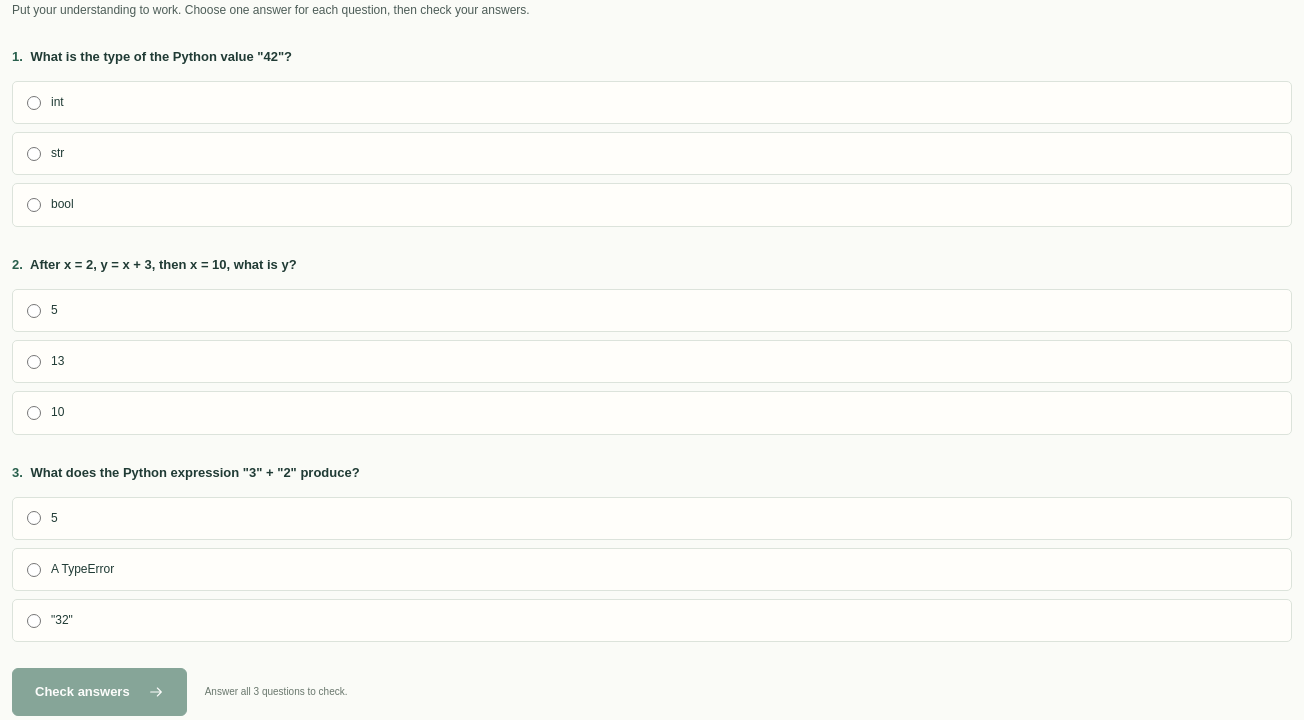
it: knowledge check › requires all answers and explains both correct and incorrect answers
This screenshot has width=1304, height=720.
Check: the button "Check answers" is disabled, box [12,668,187,716]
Click the radio button labelled "str". click: x=34, y=154
box: [27,147,41,161]
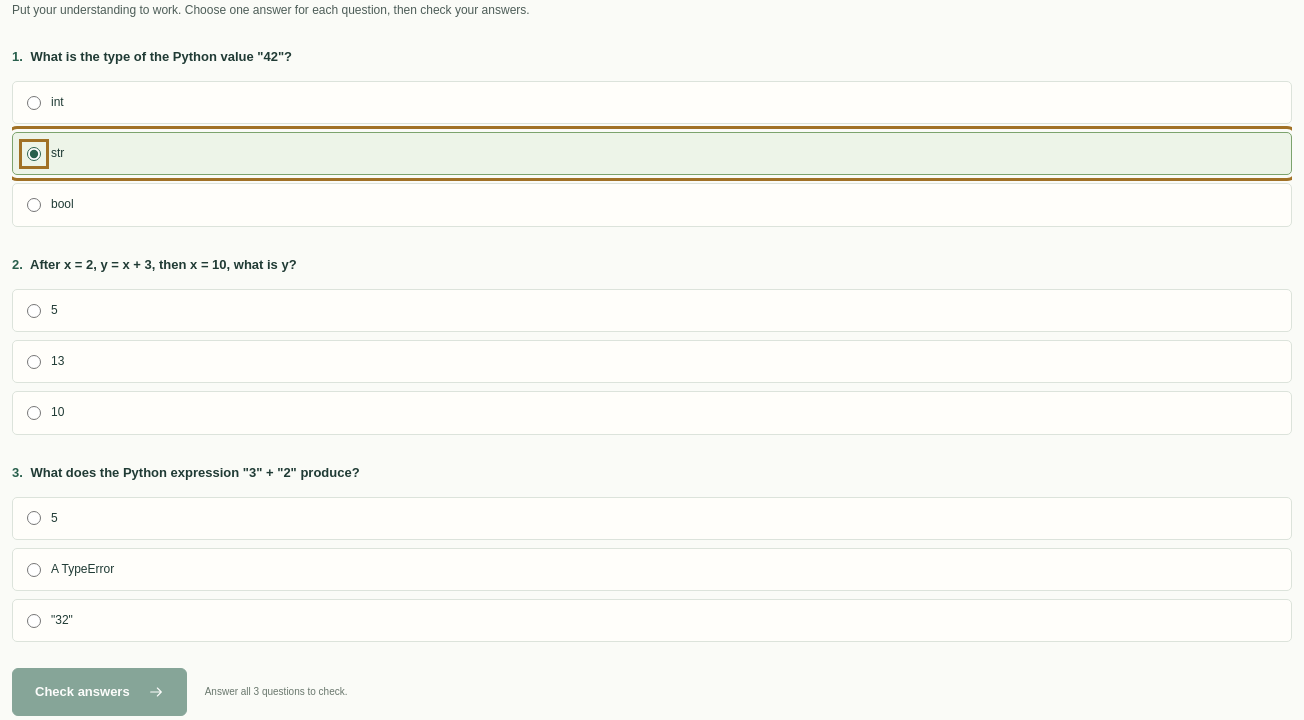
Click the radio button labelled "13". click: x=34, y=362
box: [27,355,41,369]
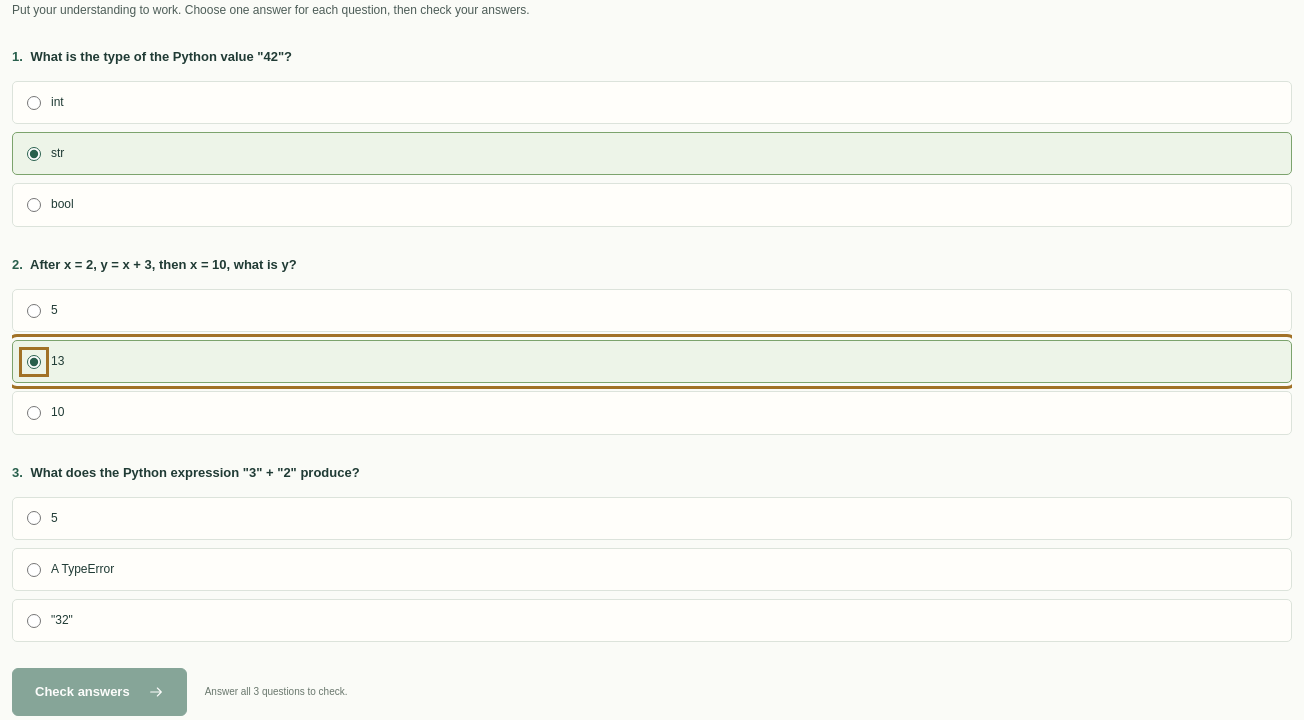
Click the radio button labelled "\"32\"". click: x=34, y=621
box: [27,614,41,628]
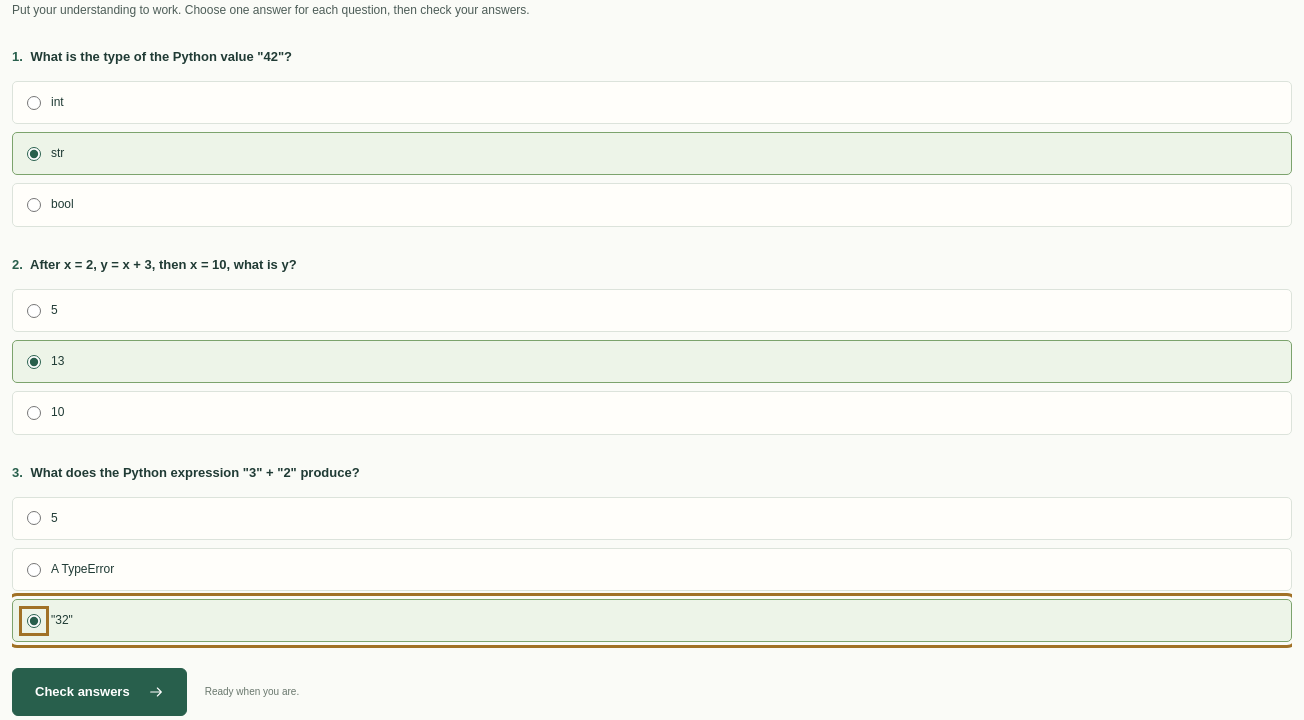
Click the button "Check answers". click: x=99, y=692
box: [12,668,187,716]
(page scrolled)
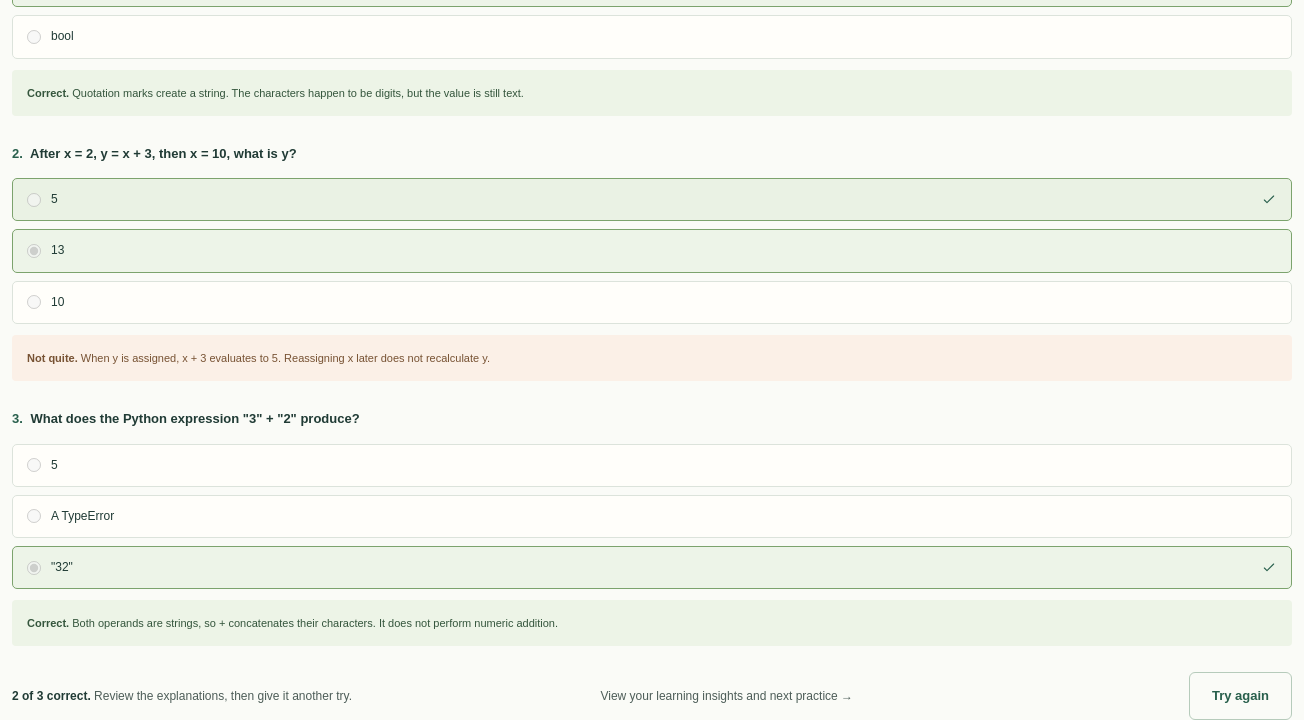
Check: the message shows "2 of 3 correct", box [12,689,352,703]
Check: the text "Correct." is shown 2 times, box [27,86,69,98]; [27,617,69,629]
Check: the text "Not quite." is shown, box [27,352,78,364]
Click the button "Try again". click: x=1240, y=696
box: [1189,672,1292,719]
(page scrolled)
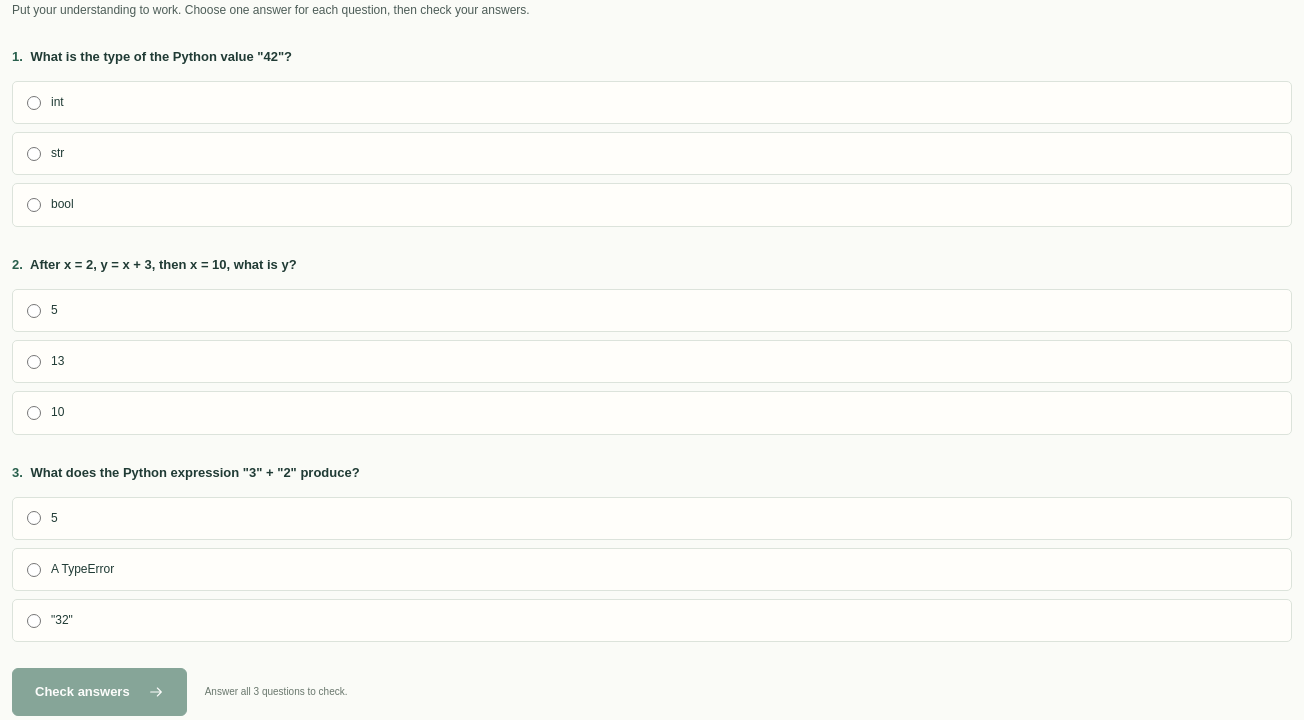
Check: the button "Check answers" is disabled, box [12,668,187,716]
